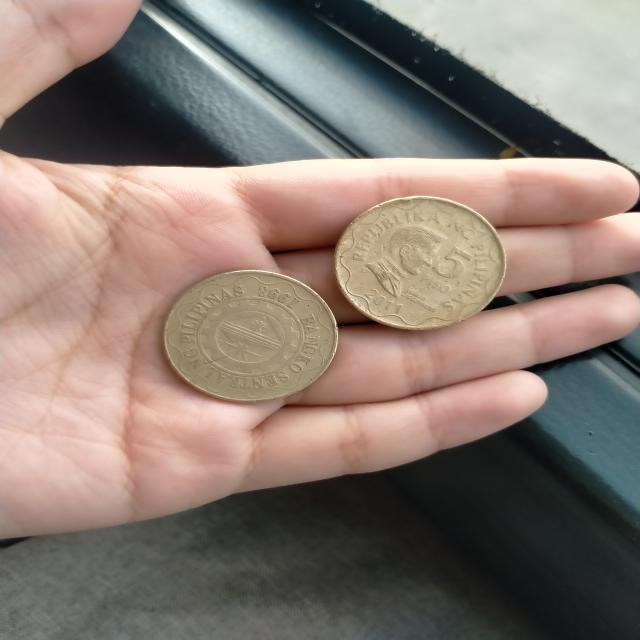5_Old_Back: (163, 270, 343, 406)
5_Old_Front: (418, 238, 482, 300)
